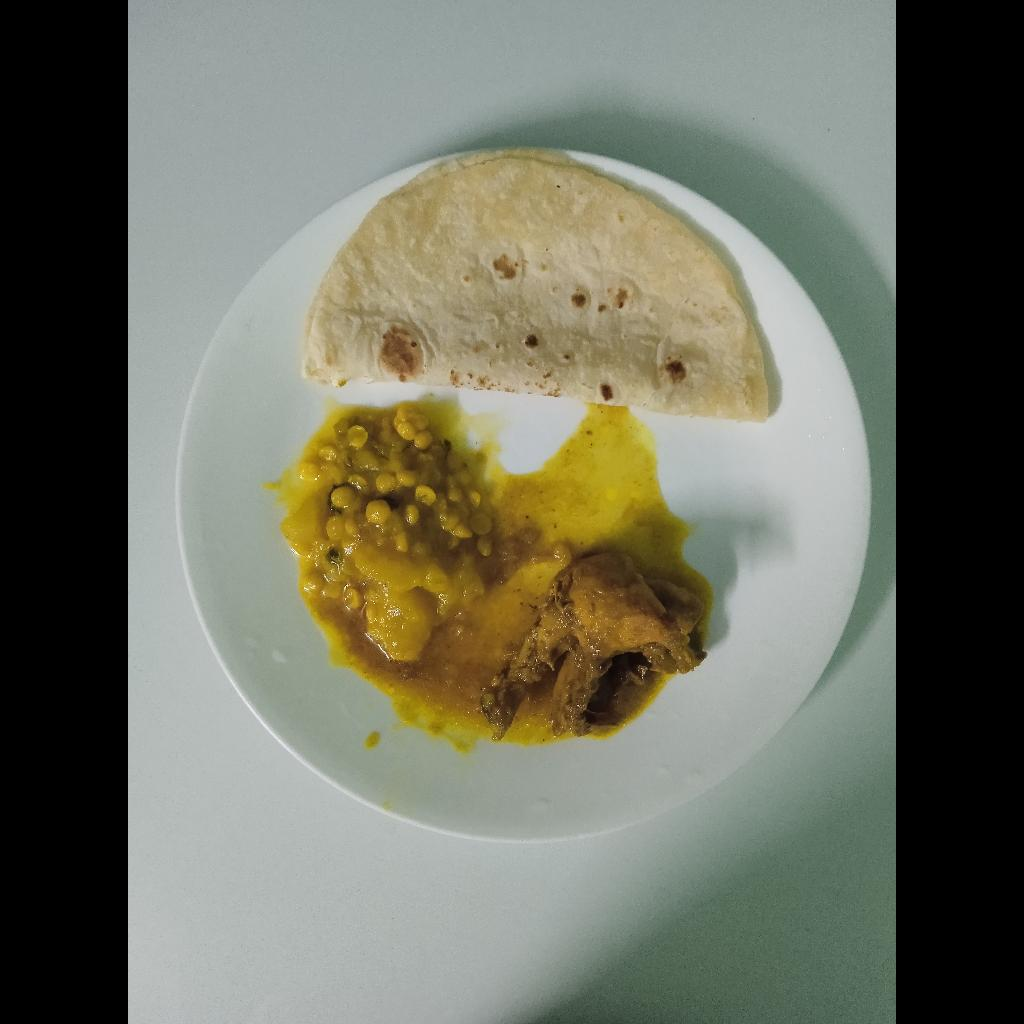chicken: (478, 554, 709, 742)
lau: (281, 408, 529, 665)
ruti: (303, 147, 770, 421)
